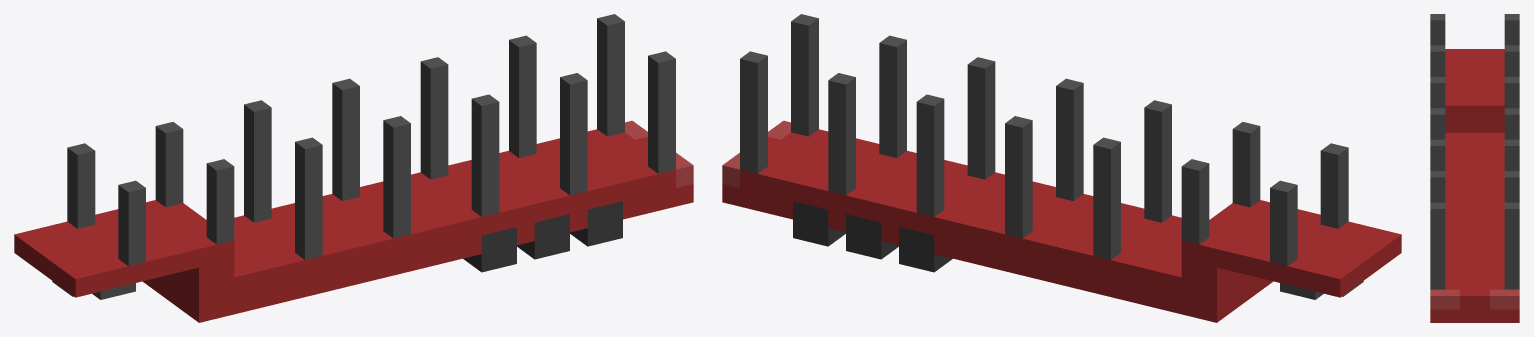
The model's file is semitrailer-v3-red.gltf.
3 renders of one model, left to right at view 1: azimuth 30°, elevation 25°; view 2: azimuth 150°, elevation 25°; view 3: azimuth 270°, elevation 25°, orthographic. The views are drawn at different scales.
Parts seen in each view (by area): view 1: model, wheels; view 2: model, wheels; view 3: model.
Part boxes in pixels (left/top/right/bottom): model: left=14, top=14, right=693, bottom=322; wheels: left=463, top=201, right=622, bottom=272; model: left=722, top=14, right=1401, bottom=322; wheels: left=793, top=201, right=952, bottom=272; model: left=1430, top=14, right=1519, bottom=322.
Size of the model in its own units: 3.5 by 0.9 by 0.6.
Materials: 2 (2 with a texture image).
